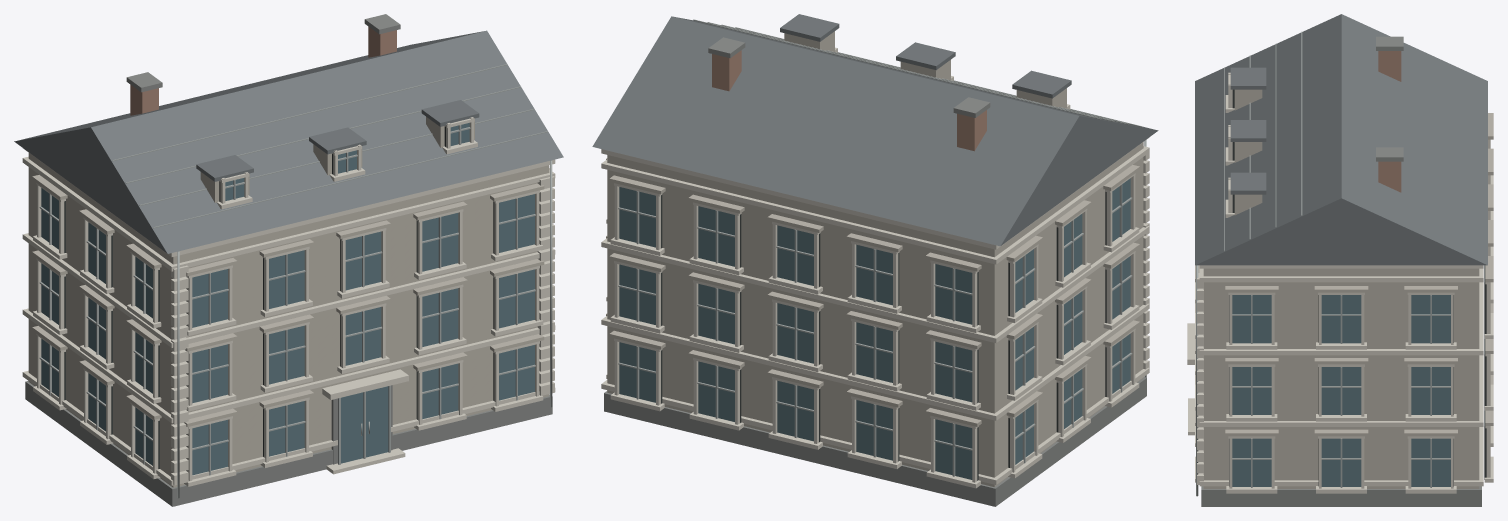
Rendered from berlin-block.glb.
The picture shows the model from 3 angles, left to right: view 1: azimuth 30°, elevation 25°; view 2: azimuth 150°, elevation 25°; view 3: azimuth 270°, elevation 25°; orthographic projection. The views are drawn at different scales.
Parts seen in each view (by area): view 1: berlin-block; view 2: berlin-block; view 3: berlin-block.
Part boxes in pixels (<box>): berlin-block: <box>14,14,563,506</box>; berlin-block: <box>592,14,1158,506</box>; berlin-block: <box>1187,14,1493,506</box>.
Size of the model in its own units: 12.73 by 10.29 by 8.88.
